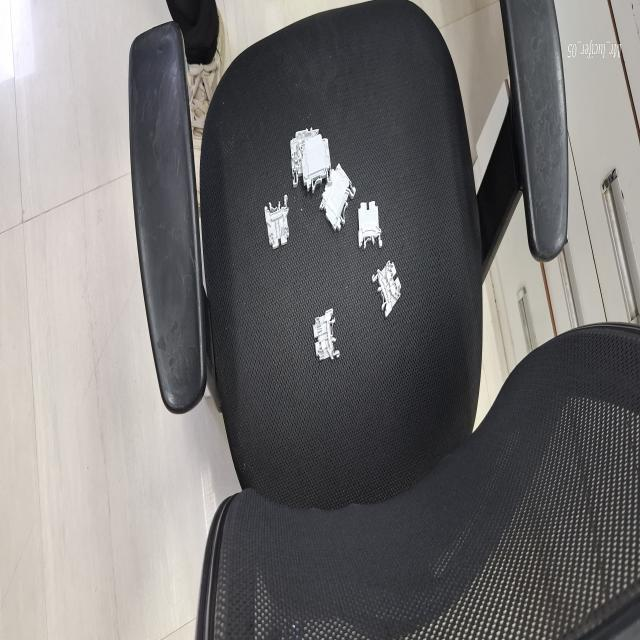Inverted: (356, 196, 386, 256)
Pass: (371, 258, 402, 317)
Reject: (260, 184, 294, 253), (312, 302, 344, 370)
